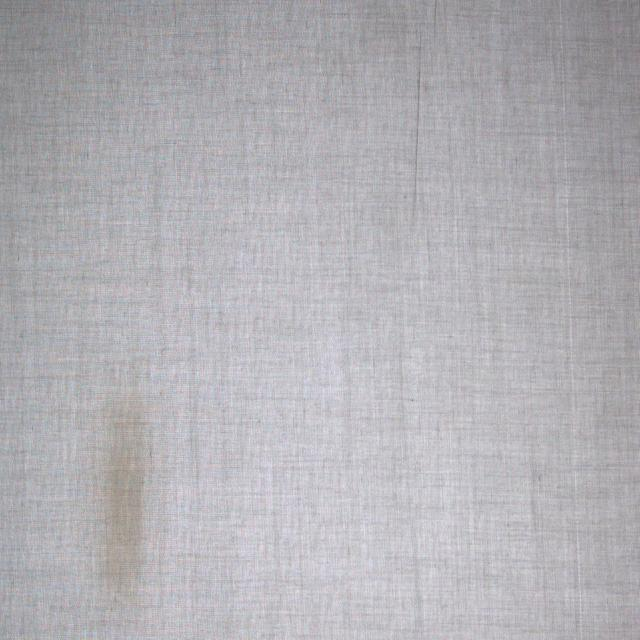dirty: (103, 403, 145, 580)
